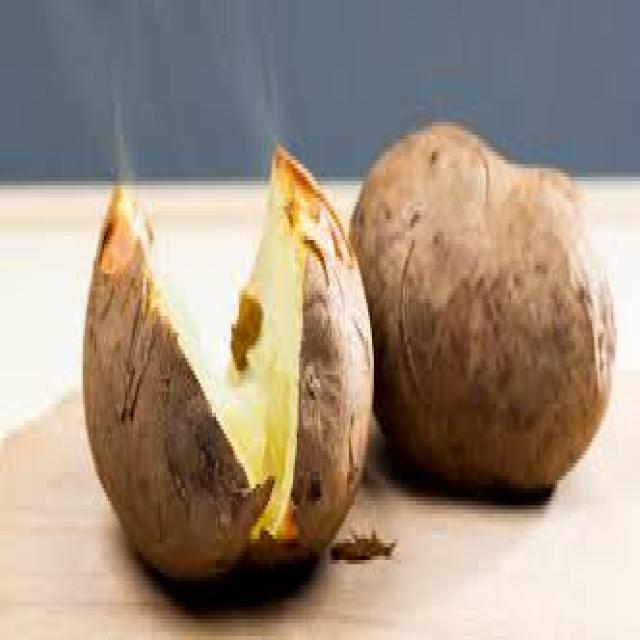Baked Potato: (105, 202, 356, 558), (368, 160, 614, 480)
